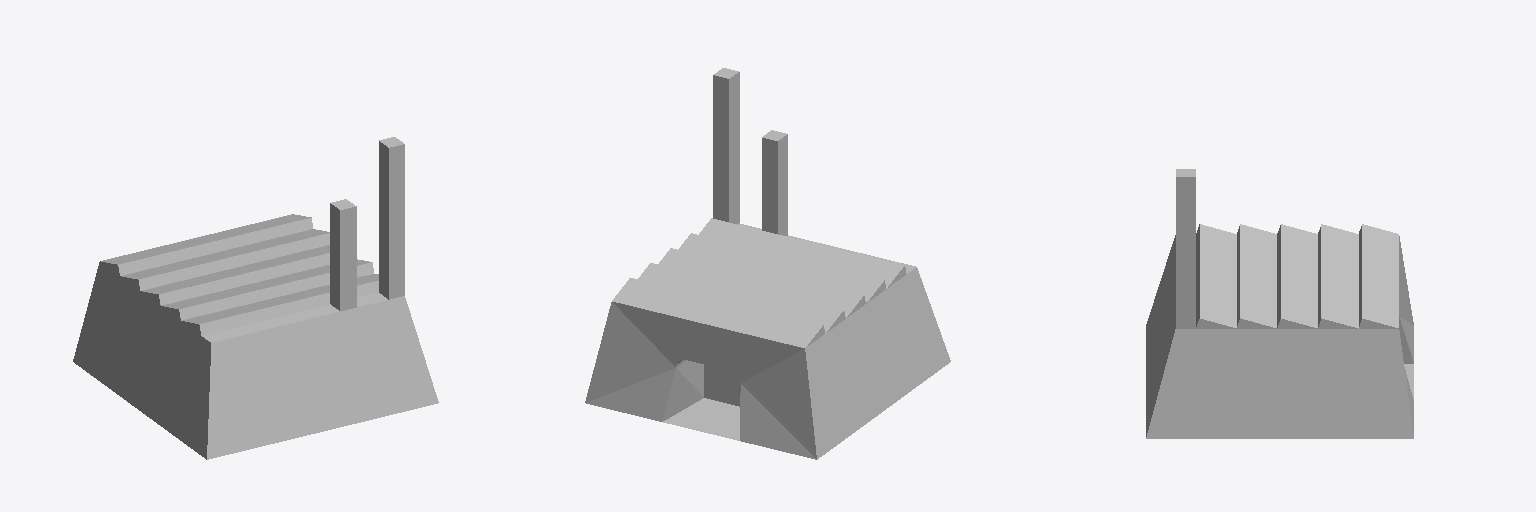
File: factory.obj
3 views of the same model, side by side, from view 1: azimuth 30°, elevation 25°; view 2: azimuth 150°, elevation 25°; view 3: azimuth 270°, elevation 25° (orthographic).
Parts seen in each view (by area): view 1: Cube; view 2: Cube; view 3: Cube.
Part boxes in pixels (x1,y1,x2,y2): Cube: (73,137,438,459); Cube: (585,68,950,459); Cube: (1146,169,1413,438).
Size of the model in its own units: 24 by 25 by 24.